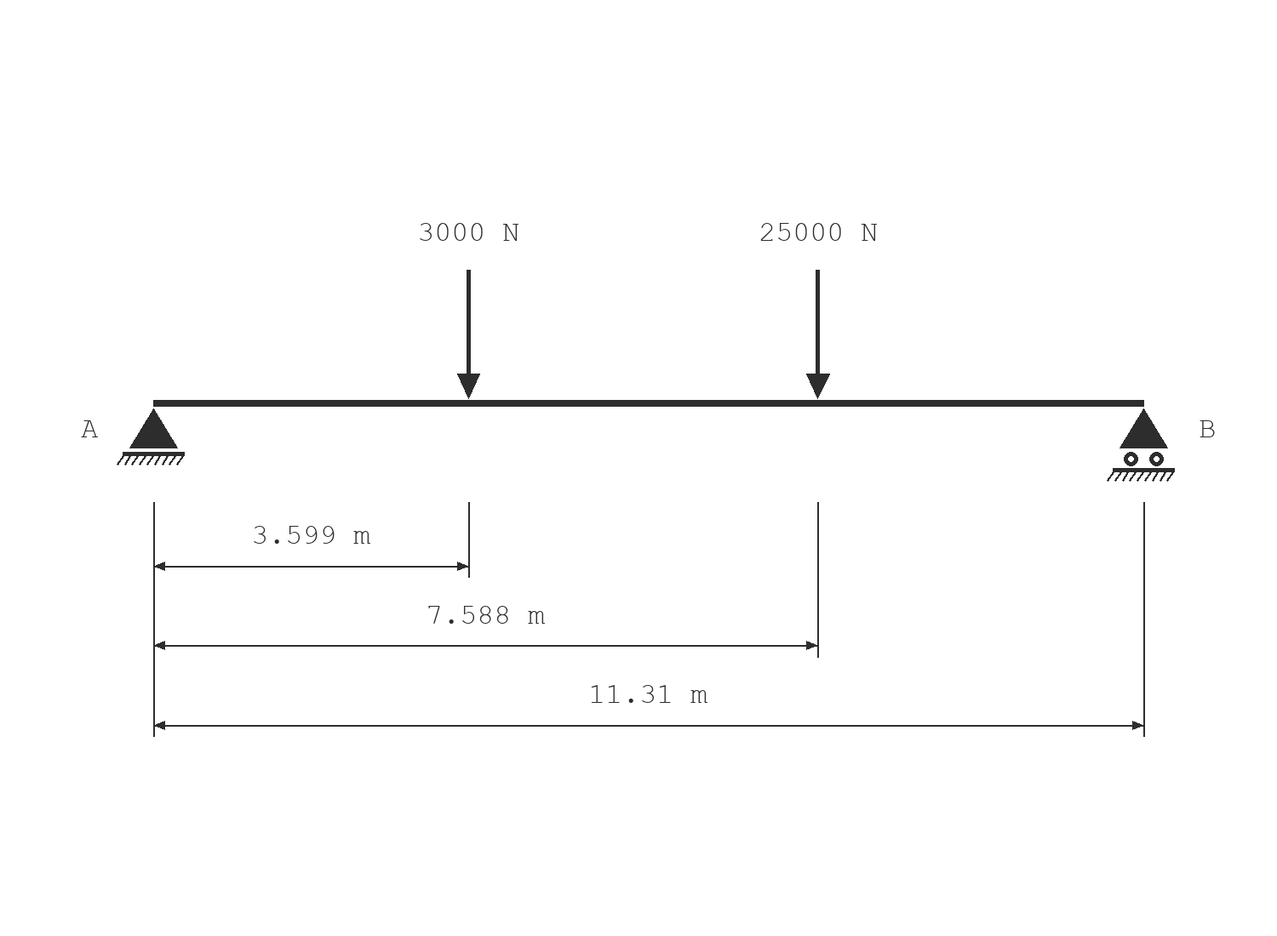pin_support: (117, 408, 185, 465)
point_load: (806, 270, 830, 399), (457, 270, 480, 399)
roller_support: (1107, 408, 1175, 482)
